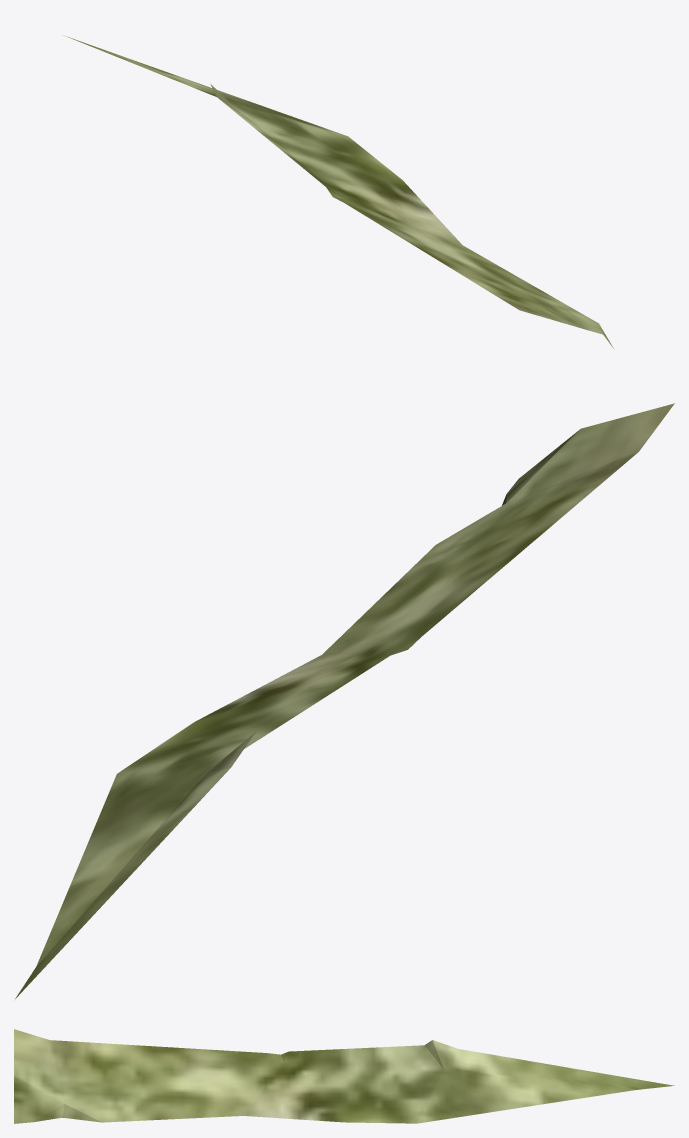
3 views of the same model, one above another, from view 1: azimuth 30°, elevation 25°; view 2: azimuth 150°, elevation 25°; view 3: azimuth 270°, elevation 25° (orthographic). The views are drawn at different scales.
Bounding box in the file's own units: 0.1849 × 0.1284 × 1.36.
Materials: 1 (1 with a texture image).
